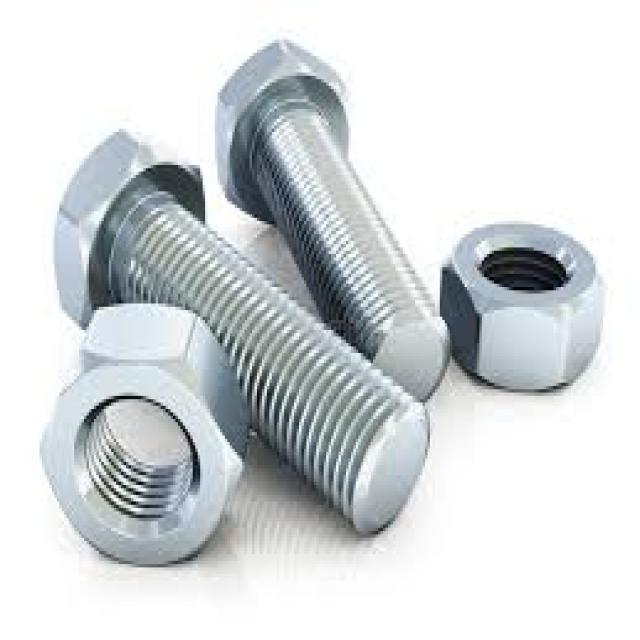metal: (52, 126, 425, 535), (213, 40, 447, 399), (35, 300, 247, 561), (437, 218, 603, 389)
